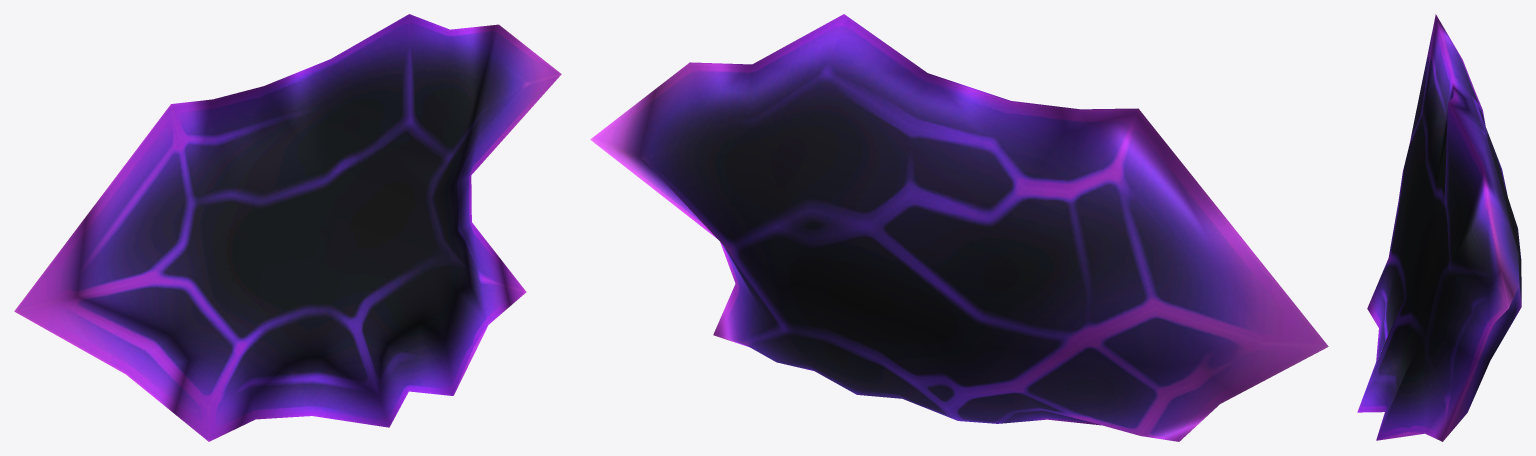
File: item_weashimgm2501-et01.glb
3 renders of one model, left to right at view 1: azimuth 30°, elevation 25°; view 2: azimuth 150°, elevation 25°; view 3: azimuth 270°, elevation 25°, orthographic. The views are drawn at different scales.
Visible parts, largest first — view 1: FlyffMesh; view 2: FlyffMesh; view 3: FlyffMesh.
Part boxes in pixels (x1,y1,x2,y2): FlyffMesh: [14, 14, 561, 441]; FlyffMesh: [590, 14, 1328, 441]; FlyffMesh: [1357, 14, 1521, 441].
Size of the model in its own units: 0.9364 by 0.5498 by 0.24.
1 material, 1 textured.
